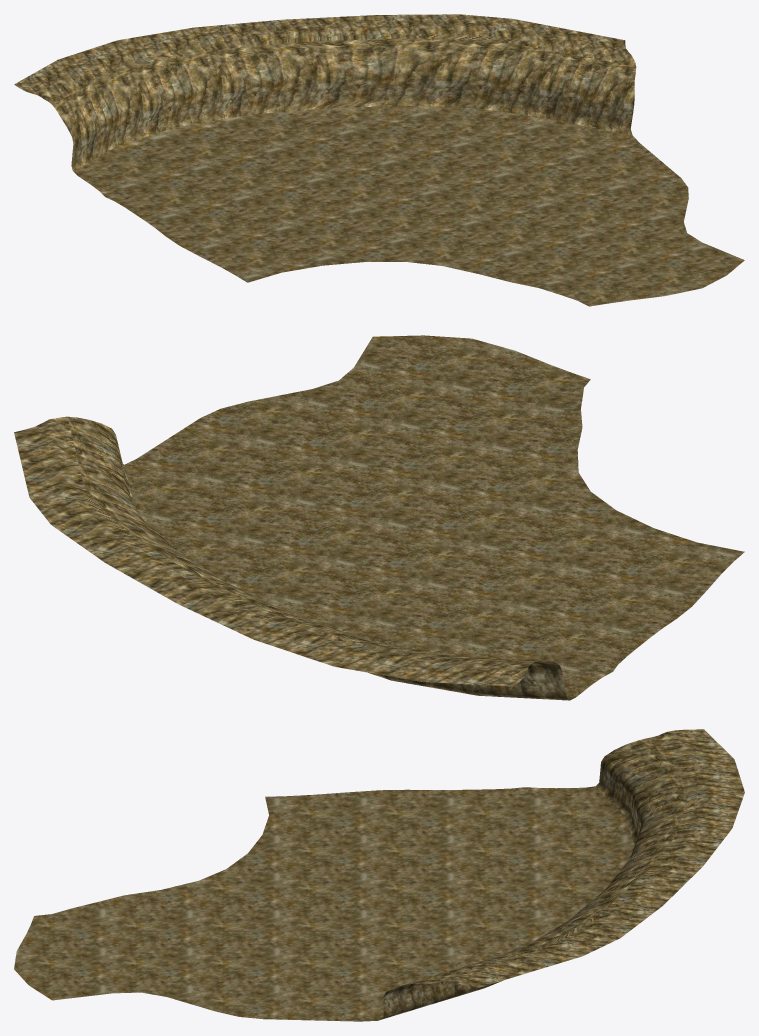
Rendered from RM_PLAYSURFACE_FINAL_OBJECT04.fbx.
3 renders of one model, top to bottom at view 1: azimuth 30°, elevation 25°; view 2: azimuth 150°, elevation 25°; view 3: azimuth 270°, elevation 25°, orthographic. The views are drawn at different scales.
Parts seen in each view (by area): view 1: RM_PLAYSURFACE_FINAL_OBJECT04; view 2: RM_PLAYSURFACE_FINAL_OBJECT04; view 3: RM_PLAYSURFACE_FINAL_OBJECT04.
Part boxes in pixels (box(x1,y1,x2,y2)): RM_PLAYSURFACE_FINAL_OBJECT04: box(14, 14, 744, 306); RM_PLAYSURFACE_FINAL_OBJECT04: box(14, 335, 744, 700); RM_PLAYSURFACE_FINAL_OBJECT04: box(14, 729, 744, 1021).
Bounding box in the file's own units: 488082 × 48593 × 582458.
Materials: 2 (2 with a texture image).
